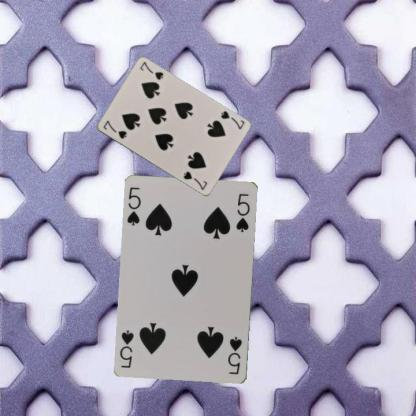5s: (225, 335, 244, 376), (124, 185, 142, 227)
7s: (218, 108, 245, 131), (101, 118, 128, 140)
